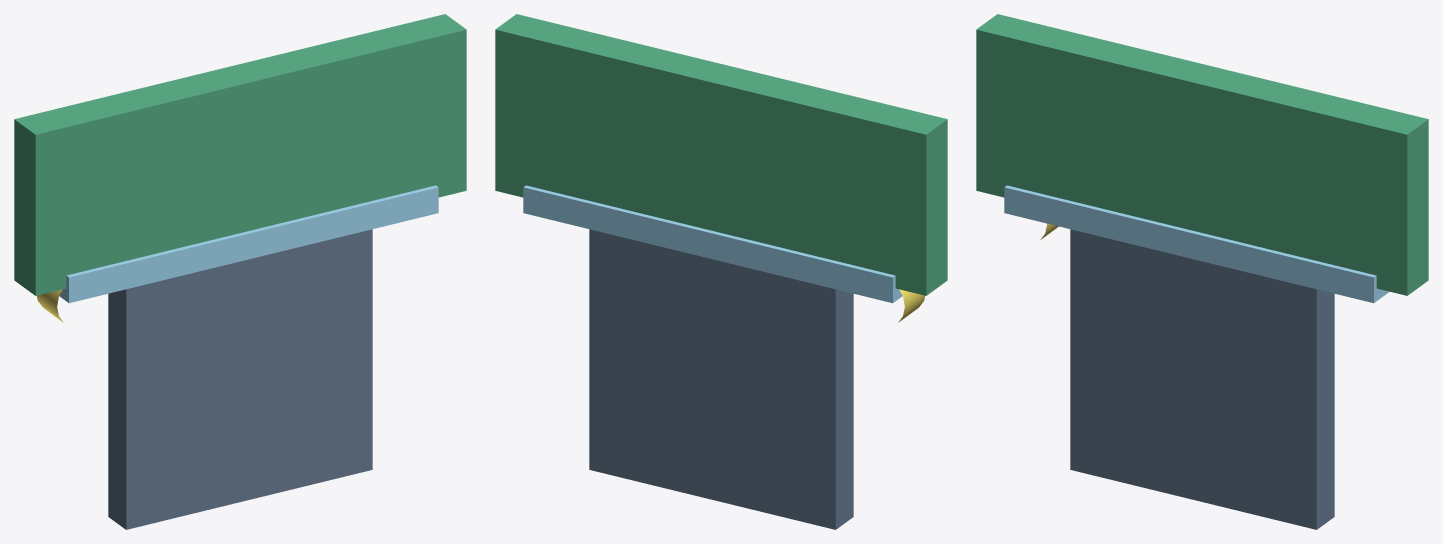
The model's file is lcd_keypad_8051_interfacing.glb.
3 renders of one model, left to right at view 1: azimuth 30°, elevation 25°; view 2: azimuth 150°, elevation 25°; view 3: azimuth 330°, elevation 25°, orthographic.
Parts seen in each view (by area): view 1: HD44780AlphanumericLCDModule, Matrix4x4KeypadPushbuttonArray, RibbonWiringHarnessHeader; view 2: HD44780AlphanumericLCDModule, Matrix4x4KeypadPushbuttonArray, RibbonWiringHarnessHeader; view 3: HD44780AlphanumericLCDModule, Matrix4x4KeypadPushbuttonArray, RibbonWiringHarnessHeader.
Part boxes in pixels (bbox=[...]): HD44780AlphanumericLCDModule: bbox=[14, 14, 466, 295]; Matrix4x4KeypadPushbuttonArray: bbox=[108, 229, 372, 529]; RibbonWiringHarnessHeader: bbox=[59, 185, 438, 303]; HD44780AlphanumericLCDModule: bbox=[495, 14, 947, 295]; Matrix4x4KeypadPushbuttonArray: bbox=[589, 229, 853, 529]; RibbonWiringHarnessHeader: bbox=[523, 185, 902, 303]; HD44780AlphanumericLCDModule: bbox=[976, 14, 1428, 295]; Matrix4x4KeypadPushbuttonArray: bbox=[1070, 229, 1334, 529]; RibbonWiringHarnessHeader: bbox=[1004, 185, 1389, 303].
Size of the model in its own units: 1.4 by 1.3 by 0.15.
